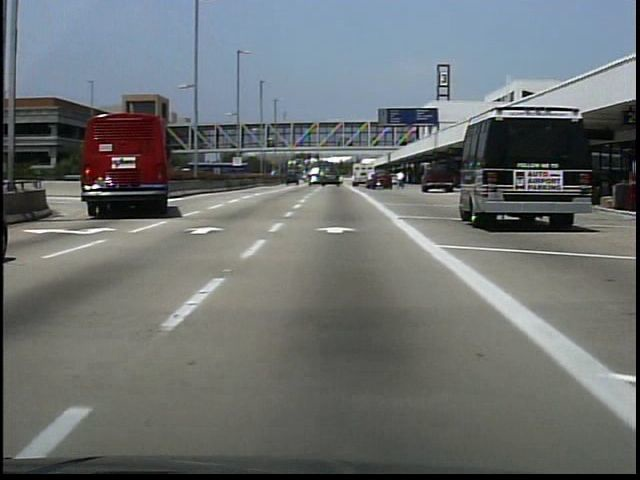person: (393, 169, 407, 191)
